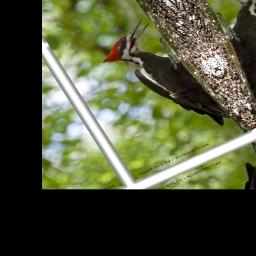Woodpecker: (88, 10, 233, 154)
